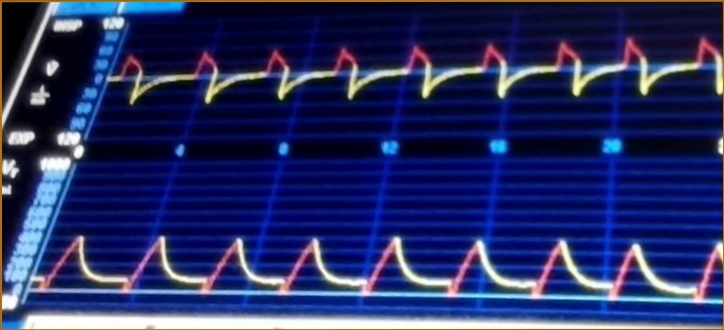Flow: (118, 29, 724, 123)
Leakage Volume: (52, 204, 724, 311)
